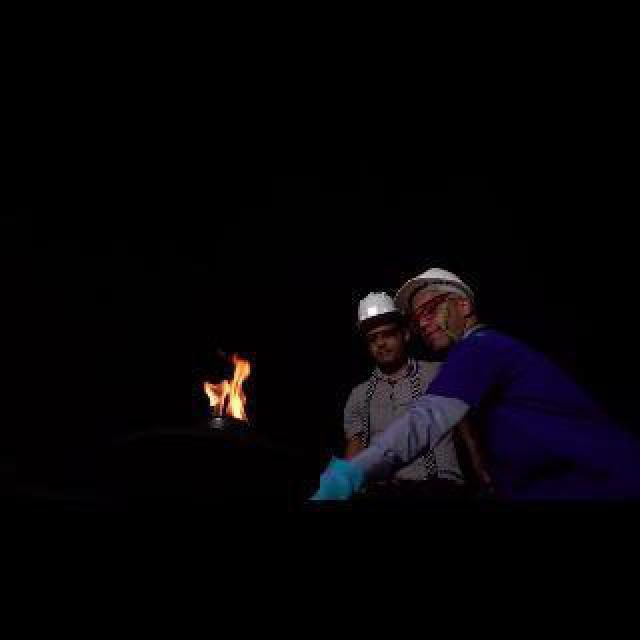Fire: (204, 350, 254, 416)
